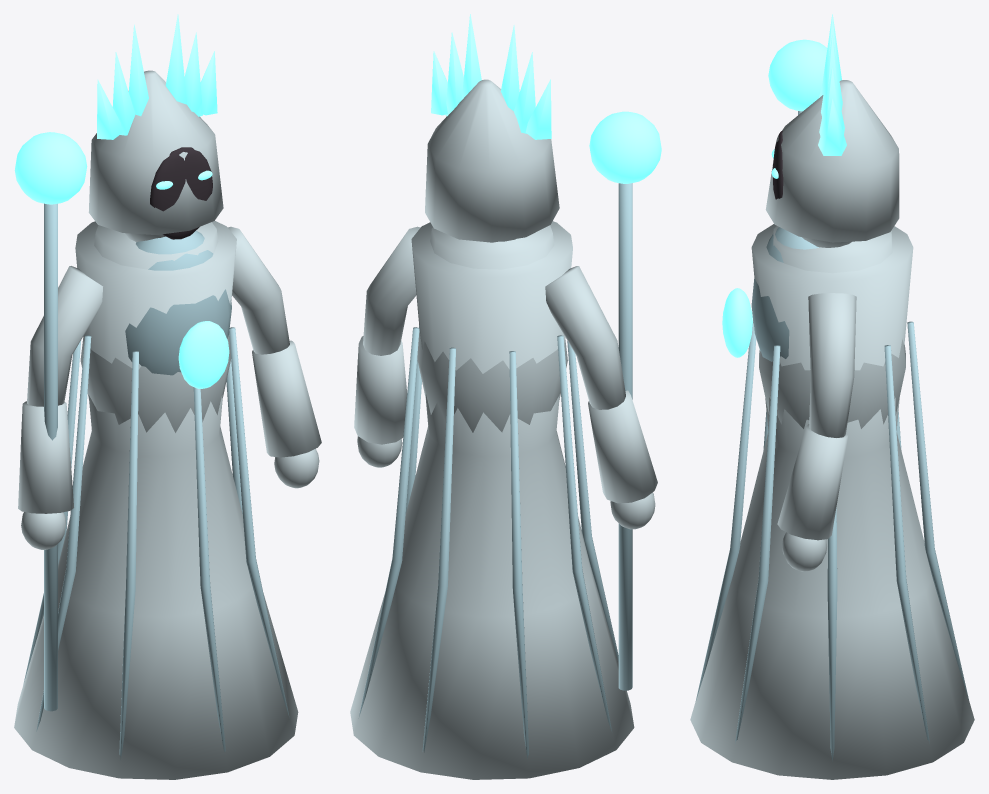
Rendered from frostbound-keeper.glb.
3 views of the same model, side by side, from view 1: azimuth 30°, elevation 25°; view 2: azimuth 150°, elevation 25°; view 3: azimuth 270°, elevation 25° (orthographic).
Visible parts, largest first — view 1: Flowing robe, Upper arm, Upper arm.001; view 2: Flowing robe, Upper arm, Upper arm.001; view 3: Flowing robe, Upper arm.001, Upper arm.
Part boxes in pixels (left/top/right/bottom): Flowing robe: left=14, top=14, right=298, bottom=779; Upper arm: left=14, top=132, right=102, bottom=711; Upper arm.001: left=228, top=226, right=321, bottom=488; Flowing robe: left=350, top=14, right=634, bottom=779; Upper arm: left=545, top=111, right=661, bottom=690; Upper arm.001: left=354, top=226, right=420, bottom=467; Flowing robe: left=690, top=14, right=974, bottom=779; Upper arm.001: left=777, top=293, right=856, bottom=571; Upper arm: left=768, top=39, right=827, bottom=114.
Bounding box in the file's own units: 1.23 × 2.75 × 1.02.
